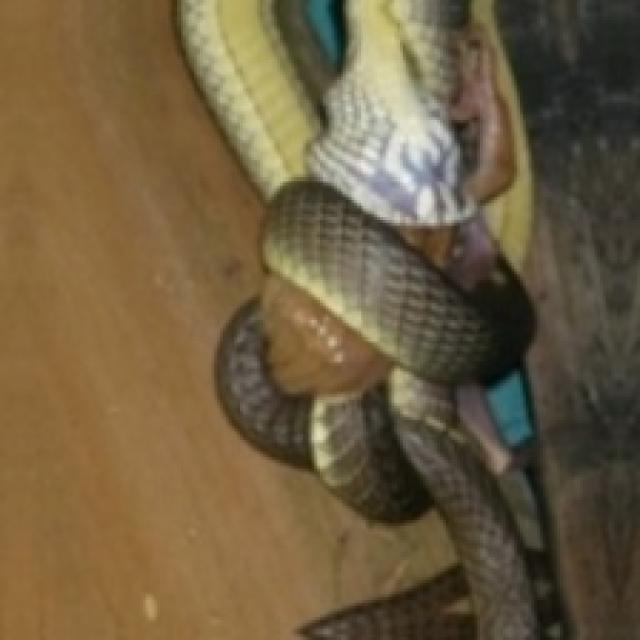paradise tree snake: (177, 0, 560, 637)
